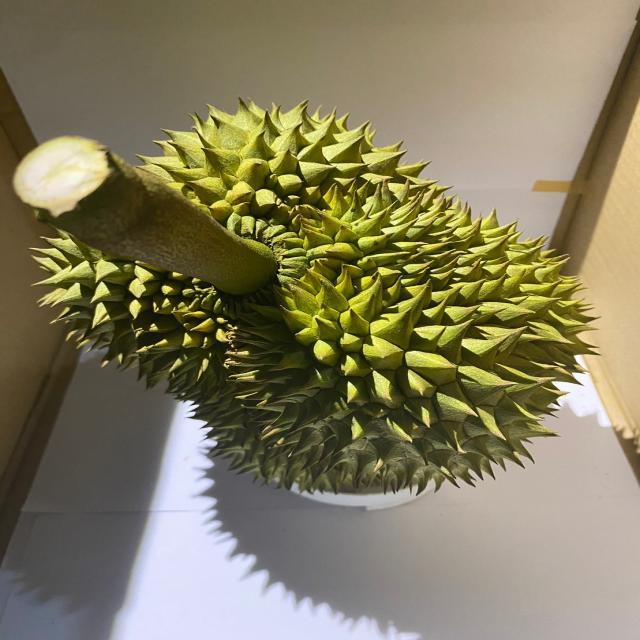immature: (31, 94, 606, 496)
